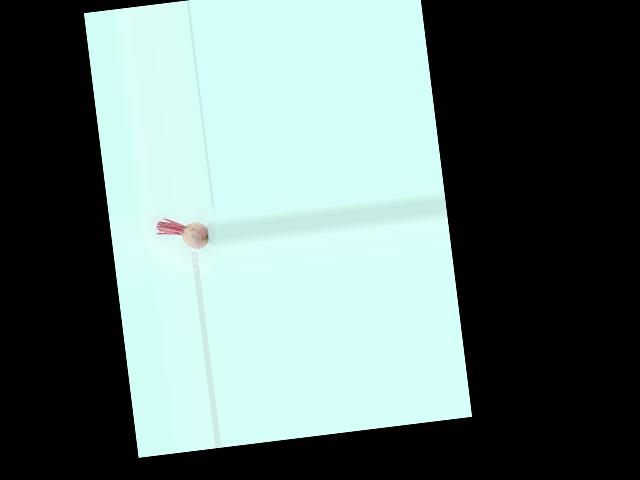beet: (155, 213, 209, 254)
